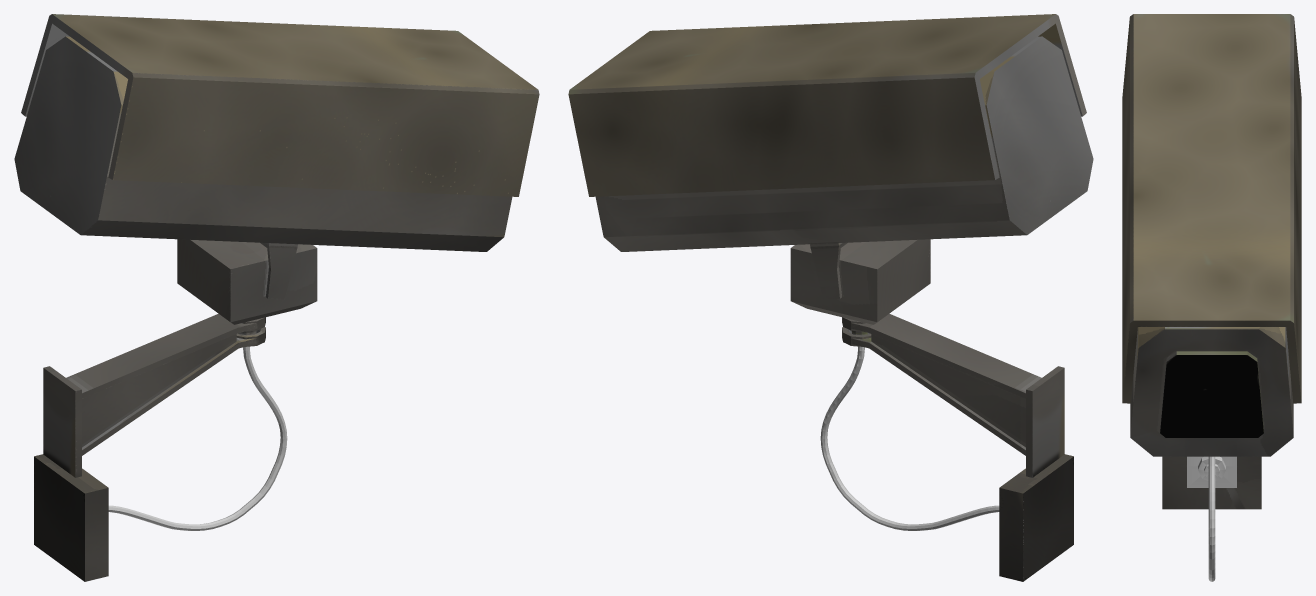
The model's file is security_camera (1).fbx.
3 renders of one model, left to right at view 1: azimuth 30°, elevation 25°; view 2: azimuth 150°, elevation 25°; view 3: azimuth 270°, elevation 25°, orthographic. The views are drawn at different scales.
Parts seen in each view (by area): view 1: camera_wallmount; view 2: camera_wallmount; view 3: camera_wallmount.
Part boxes in pixels (<box>): camera_wallmount: <box>14,14,539,581</box>; camera_wallmount: <box>568,14,1093,581</box>; camera_wallmount: <box>1122,14,1301,581</box>.
Bounding box in the file's own units: 14063 × 15451 × 4990.
